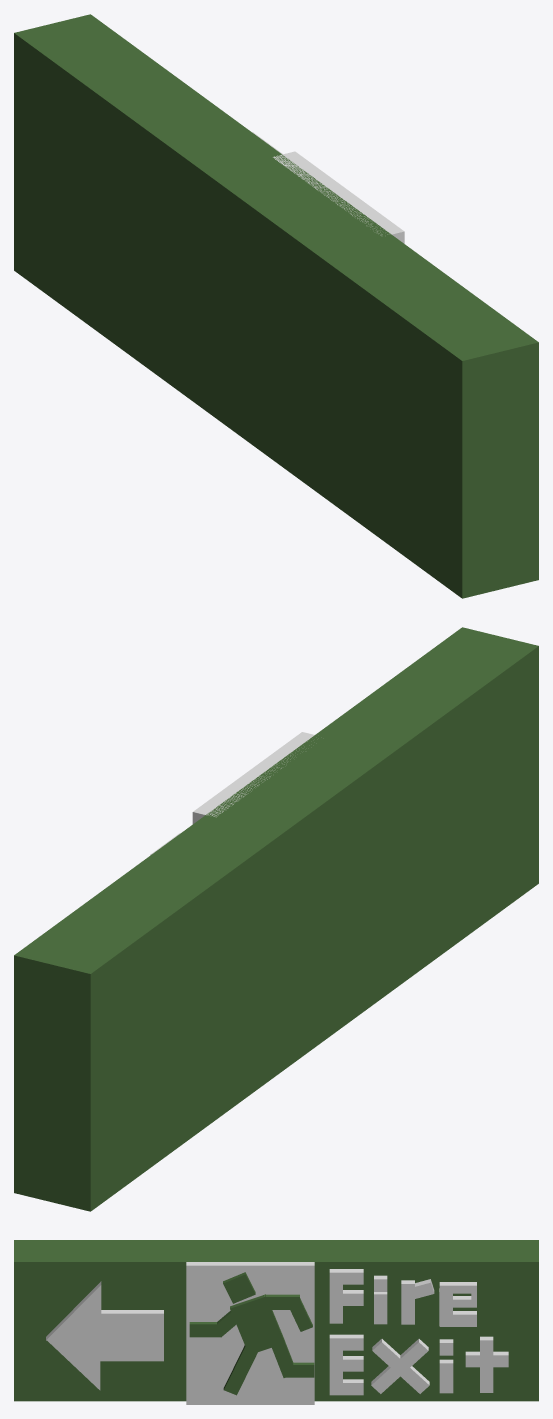
File: exitsignLeft.fbx
3 renders of one model, top to bottom at view 1: azimuth 30°, elevation 25°; view 2: azimuth 150°, elevation 25°; view 3: azimuth 270°, elevation 25°, orthographic. The views are drawn at different scales.
Parts seen in each view (by area): view 1: Cube.004, Cube.001; view 2: Cube.004, Cube.001; view 3: Cube.004, Cube.001, Cube.016, Cube.026, Cube.002.
Boxes of the visible parts, box(x1,y1,x2,y2) form: Cube.004: box(14, 14, 538, 598); Cube.001: box(273, 151, 404, 243); Cube.004: box(14, 627, 538, 1211); Cube.001: box(192, 732, 314, 824); Cube.004: box(14, 1240, 538, 1401); Cube.001: box(186, 1262, 314, 1404); Cube.016: box(329, 1269, 508, 1395); Cube.026: box(46, 1281, 163, 1390); Cube.002: box(189, 1272, 314, 1395).
Size of the model in its own units: 14.13 by 32.78 by 112.
